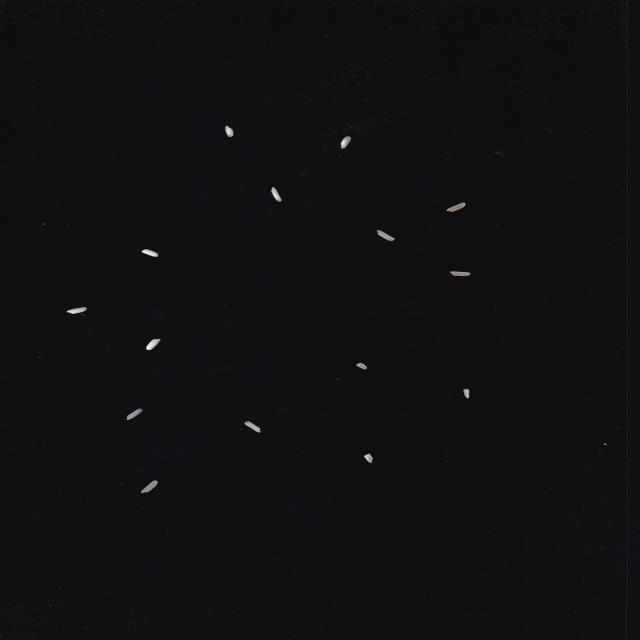Chalky: (270, 187, 282, 202), (340, 136, 351, 149), (225, 126, 234, 138)
Not: (140, 480, 158, 493), (126, 408, 143, 421), (244, 421, 262, 433), (376, 230, 395, 241), (446, 202, 466, 212), (146, 338, 161, 351), (66, 307, 88, 314), (141, 249, 159, 257), (450, 271, 471, 277), (356, 362, 368, 370), (364, 453, 373, 463), (463, 388, 470, 398)
